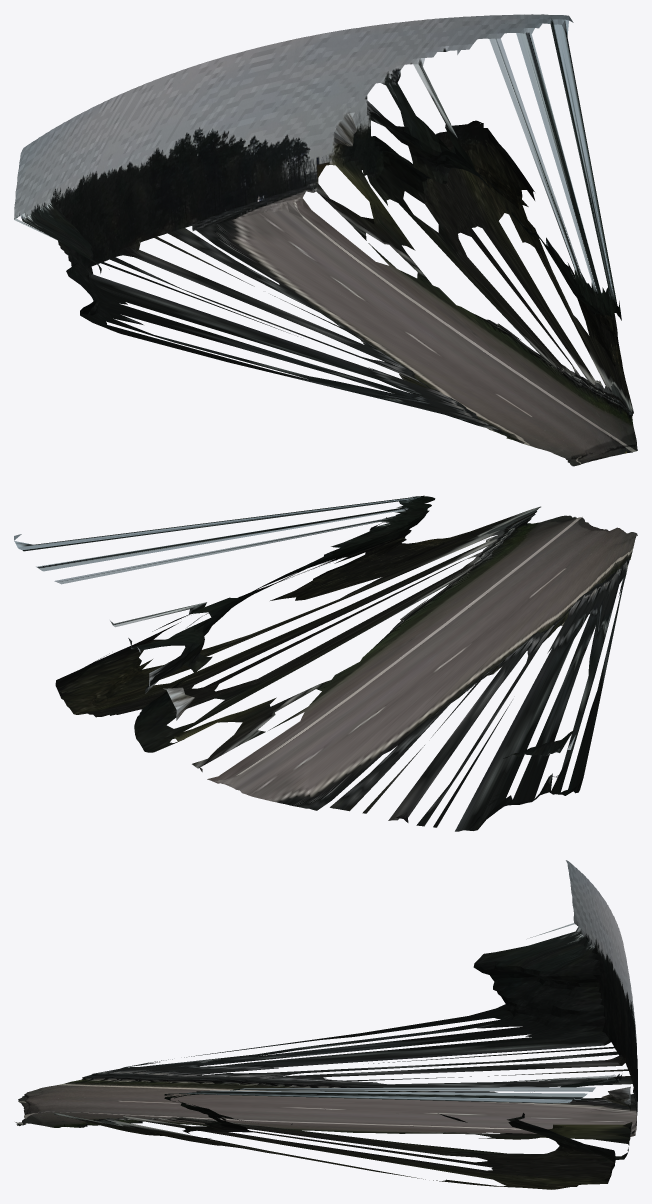
3 renders of one model, top to bottom at view 1: azimuth 30°, elevation 25°; view 2: azimuth 150°, elevation 25°; view 3: azimuth 270°, elevation 25°, orthographic. The views are drawn at different scales.
Visible parts, largest first — view 1: defaultobject; view 2: defaultobject; view 3: defaultobject.
Boxes of the visible parts, left/top/right/bottom form: defaultobject: left=14, top=14, right=637, bottom=466; defaultobject: left=14, top=495, right=637, bottom=831; defaultobject: left=15, top=860, right=637, bottom=1189.
Size of the model in its own units: 40.69 by 12.33 by 44.83.
Materials: 1 (1 with a texture image).
